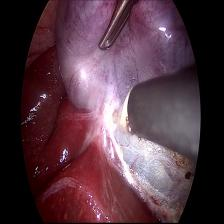Grasper: (99, 1, 139, 57)
Hook: (103, 81, 136, 147)
